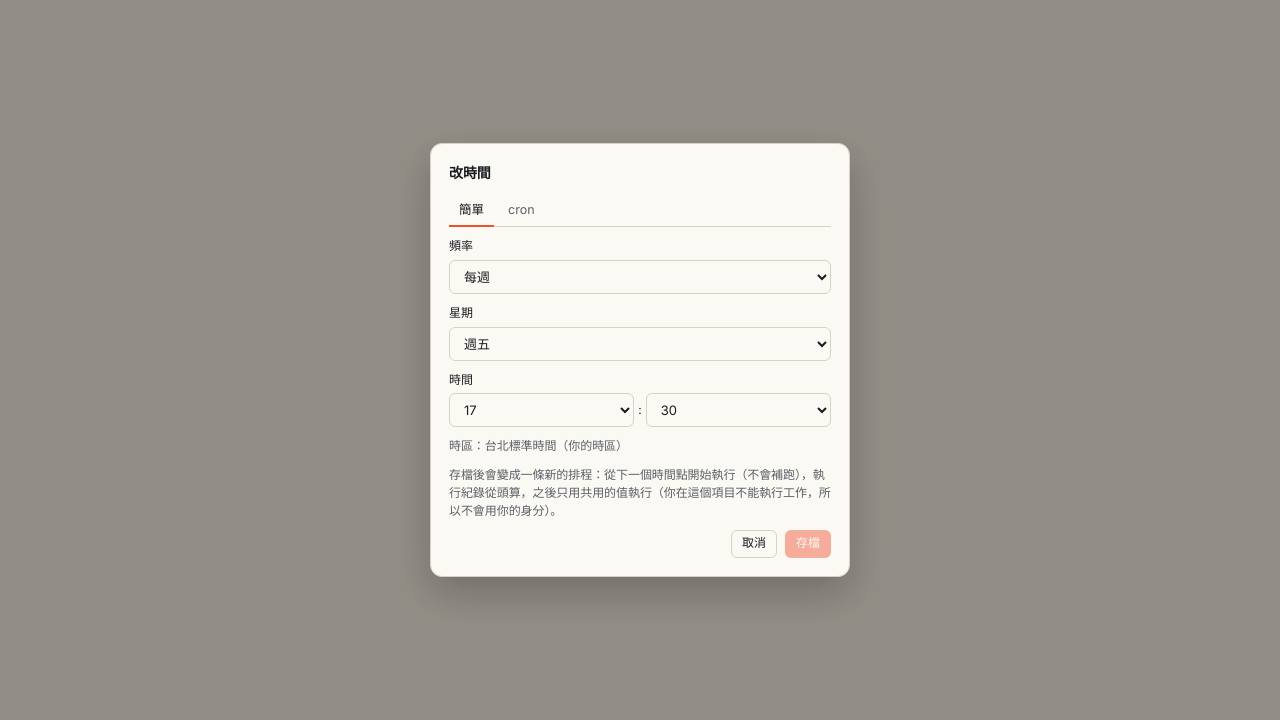
Test: ScheduleTimeModal › asks once before throwing a changed time away
Select "08" in the dropdown named "時" at {"x": 542, "y": 410}, box [449,393,634,427]
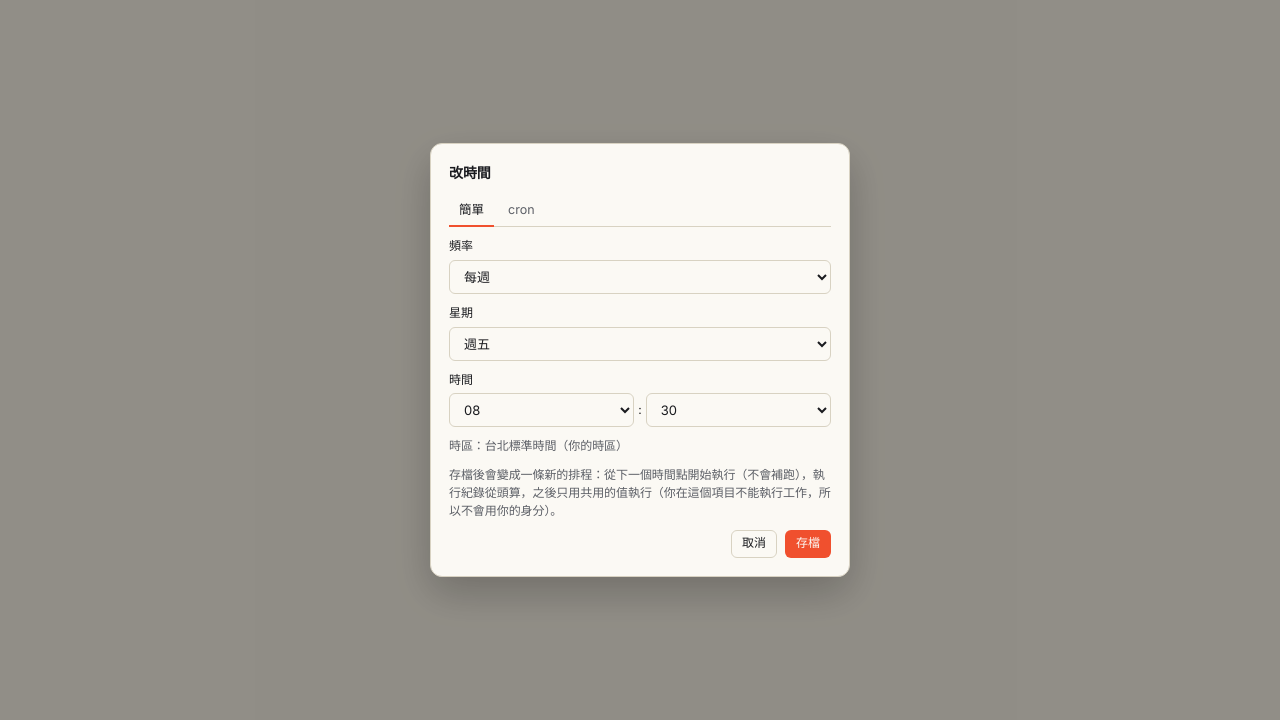
Click the button "取消".
click(754, 544)  # box [731,530,777,558]
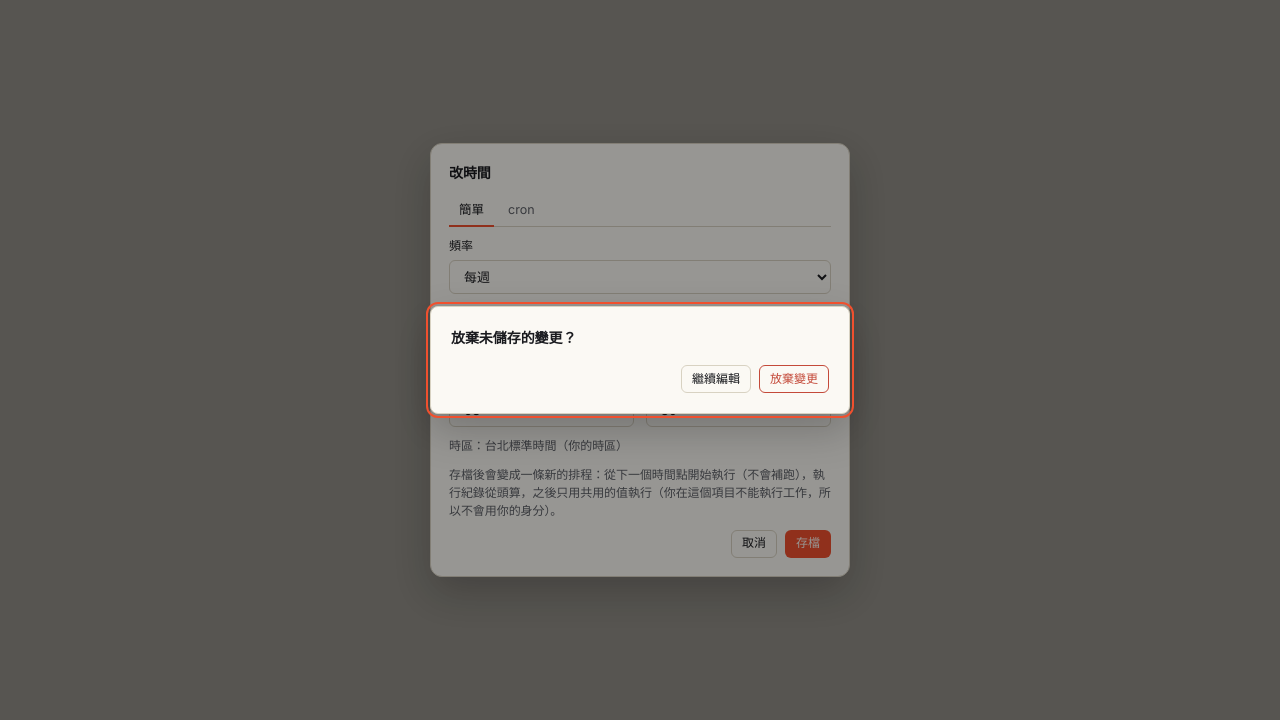
Click the button "繼續編輯".
click(716, 379)  # box [681,365,751,393]
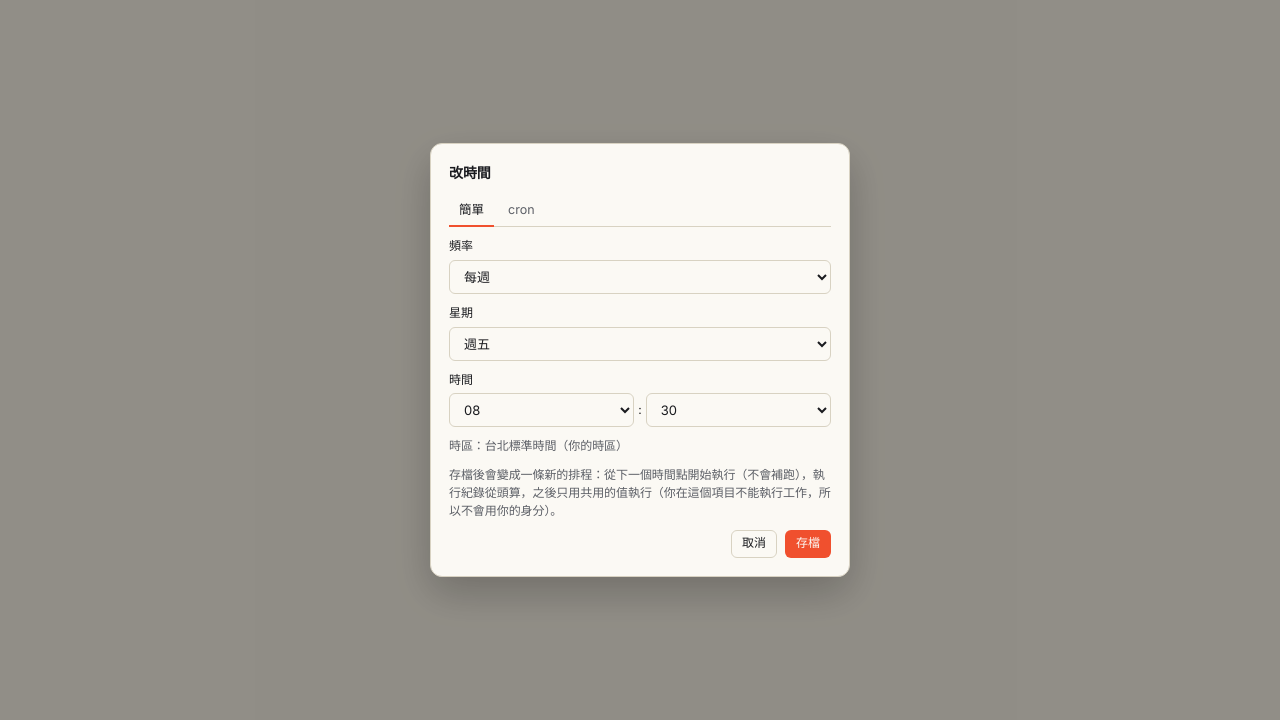
Check: the text "放棄未儲存的變更？" is gone
